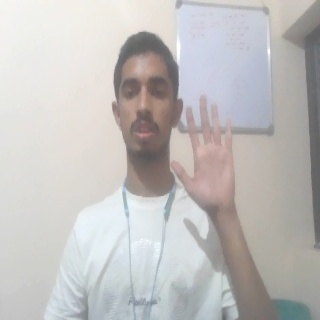Face: (110, 30, 184, 167)
Hello: (170, 93, 242, 214)
